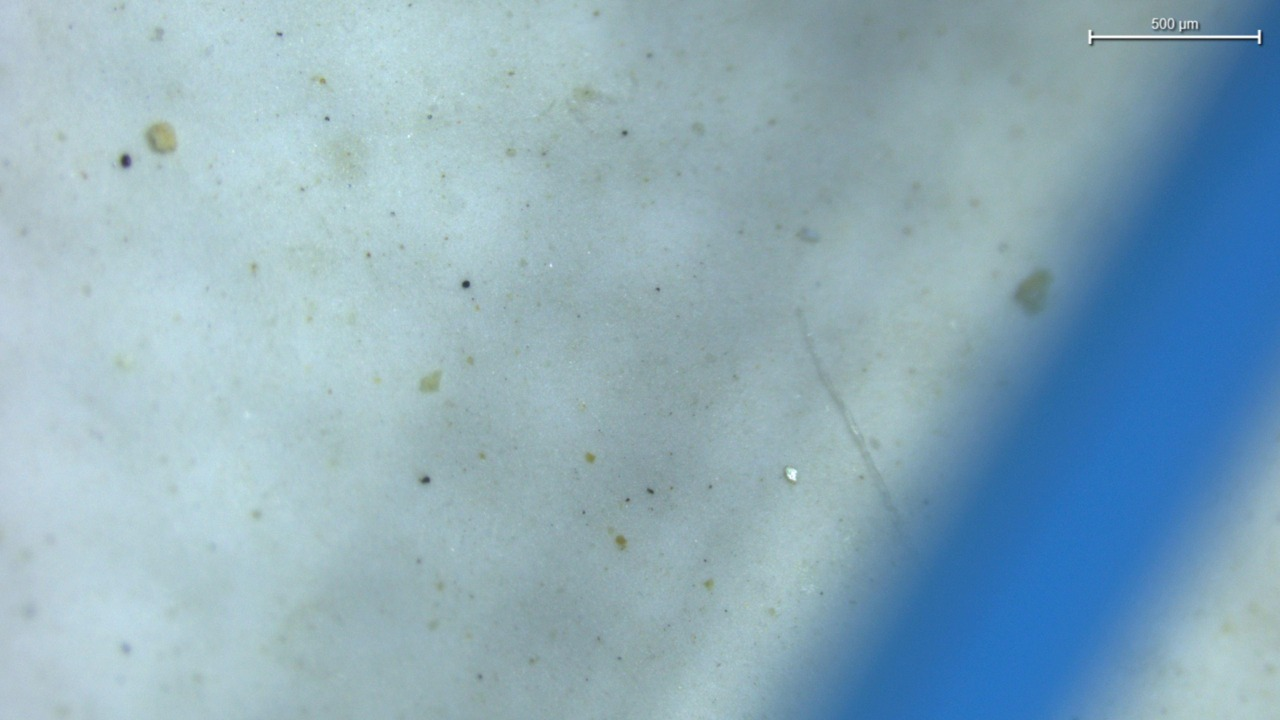microplastic_fragment: (783, 466, 798, 482)
